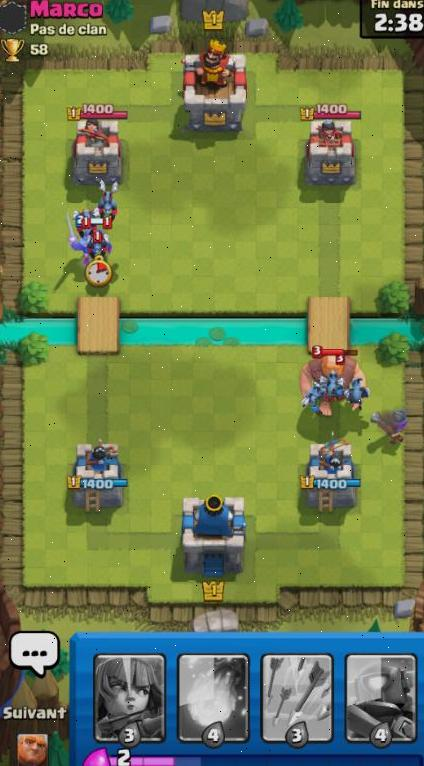enemy_giant: (298, 344, 363, 399)
enemy_minions: (93, 177, 124, 226), (83, 229, 115, 263), (67, 207, 96, 241)
player_minions: (344, 375, 373, 405), (301, 380, 329, 410), (319, 368, 346, 396)
